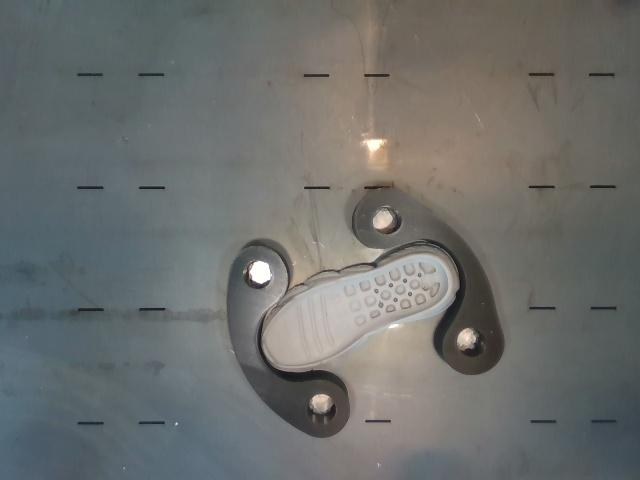shoes: (263, 254, 450, 367)
